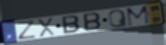B: (61, 14, 81, 35), (82, 12, 102, 33)
M: (125, 4, 152, 28)
Q: (107, 8, 130, 29)
X: (36, 17, 57, 38)
Z: (15, 19, 38, 41)
